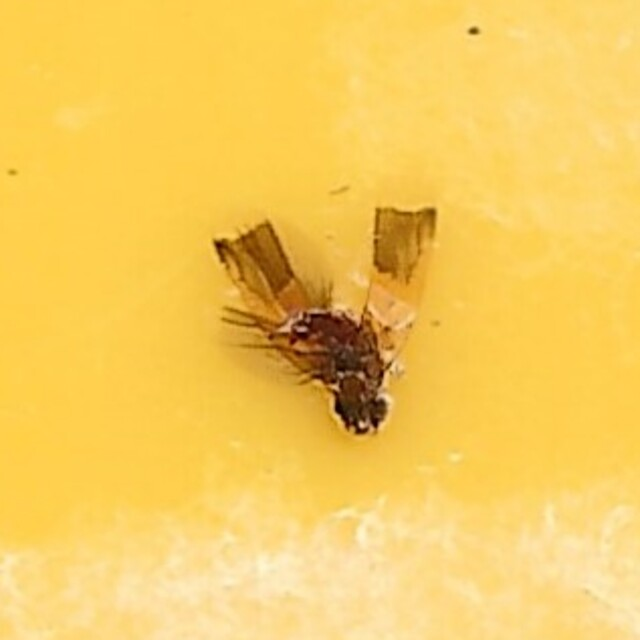Hemiptera: (202, 204, 438, 436)
